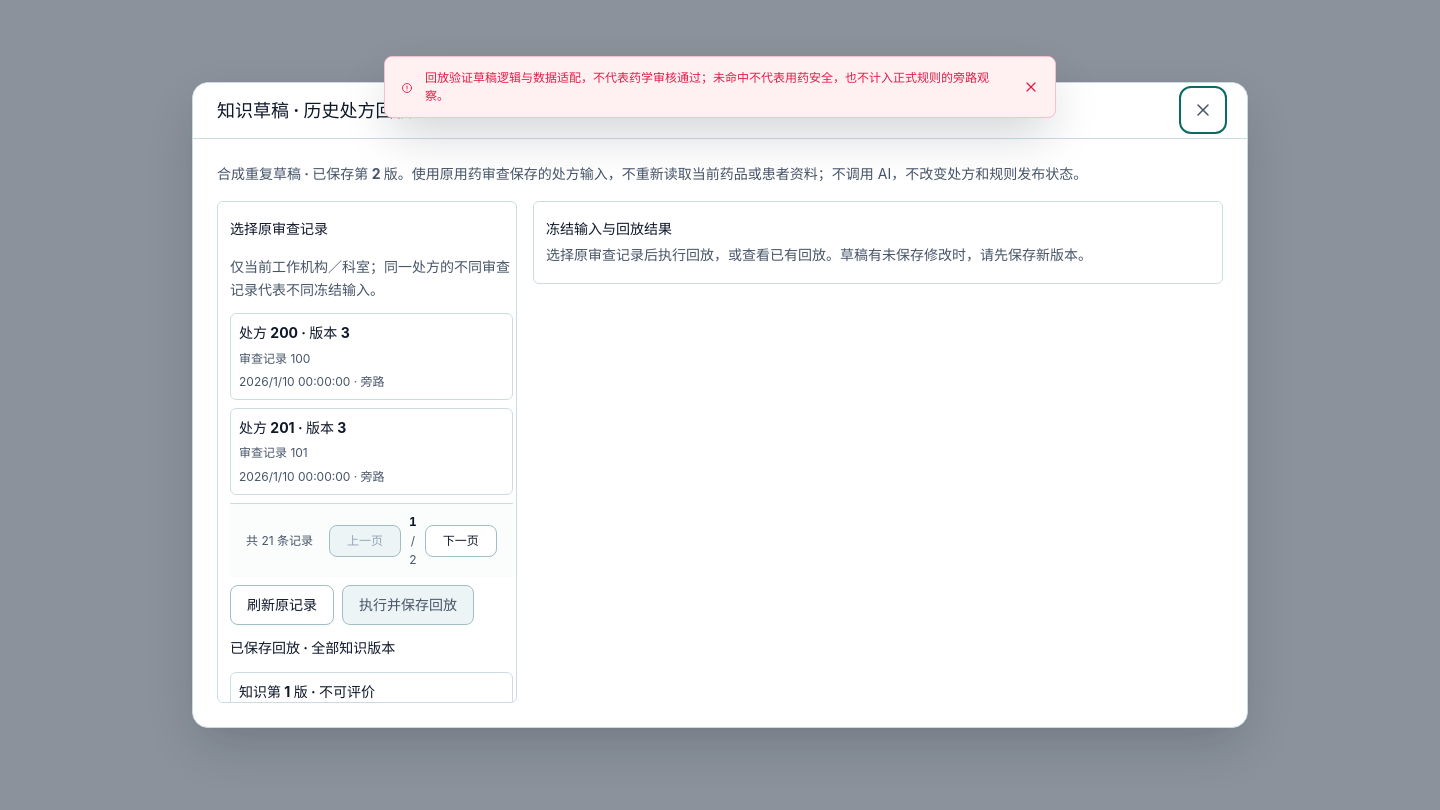
it: requires explicit selection and replay, pins the saved knowledge version and displays frozen facts
The width and height of the screenshot is (1440, 810).
Expected: the button "执行并保存回放" is disabled, [342, 585, 474, 625]
Click the button "处方 200 · 版本 3 审查记录 100 2026/1/10 00:00:00 · 旁路": (255, 333) [230, 313, 513, 400]
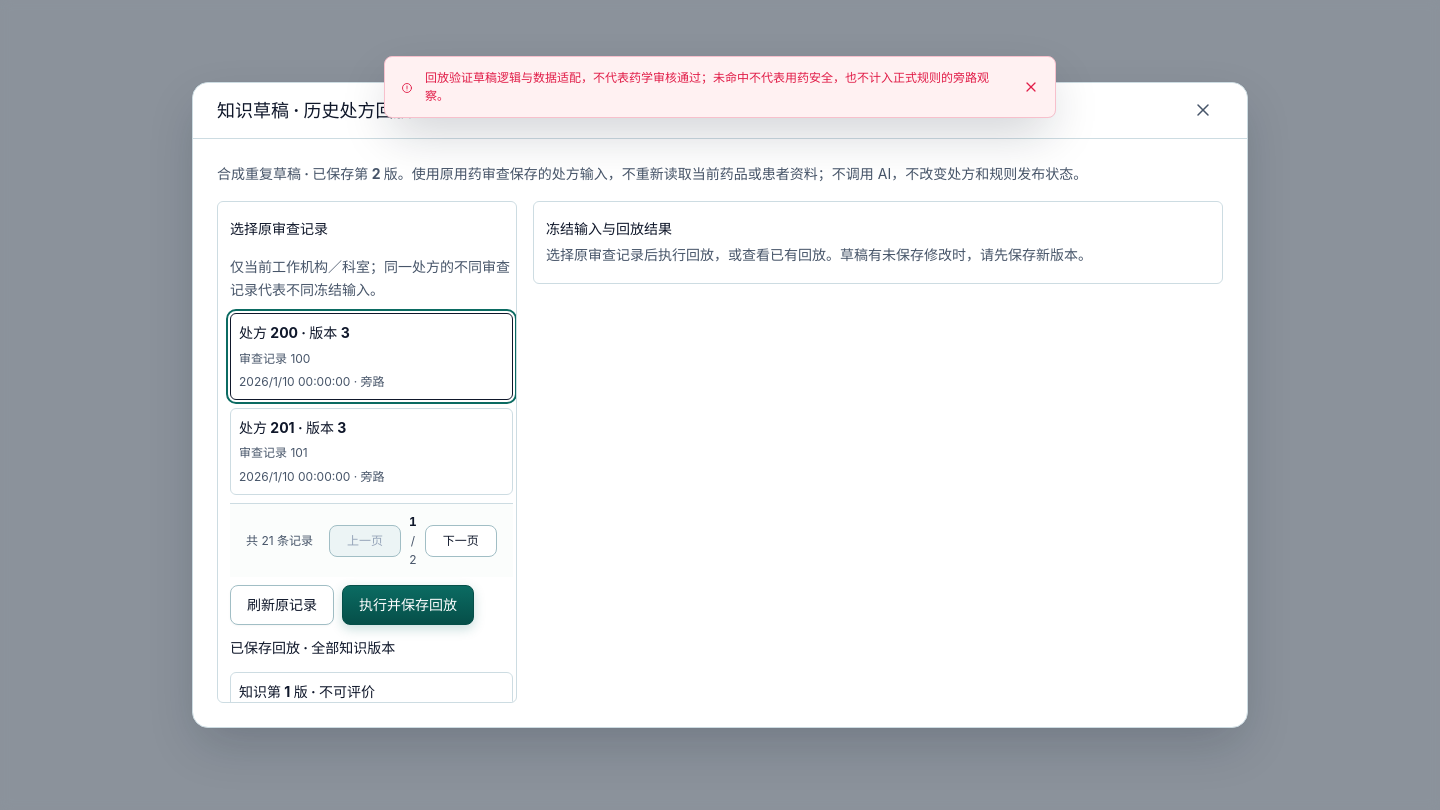
Click the button "执行并保存回放": (408, 605) [342, 585, 474, 625]
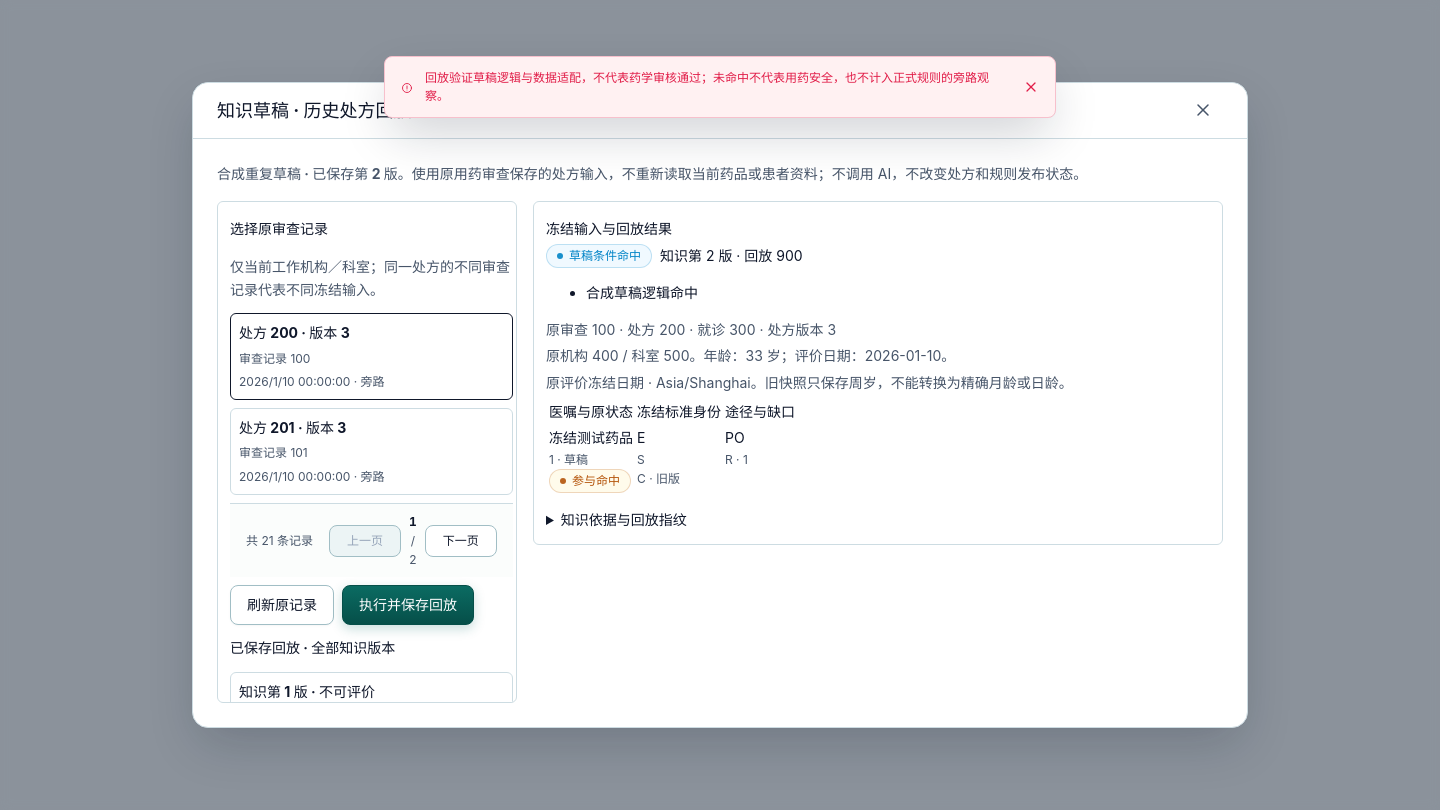
Expected: the text "冻结测试药品" is shown, [549, 429, 633, 446]
Expected: the text "参与命中" is shown, [549, 469, 631, 493]
Expected: the text "原机构 400 / 科室 500。年龄：33 岁；评价日期：2026-01-10。" is shown, [546, 347, 955, 364]
Click the heading "知识依据与回放指纹": (624, 520) [561, 511, 687, 528]
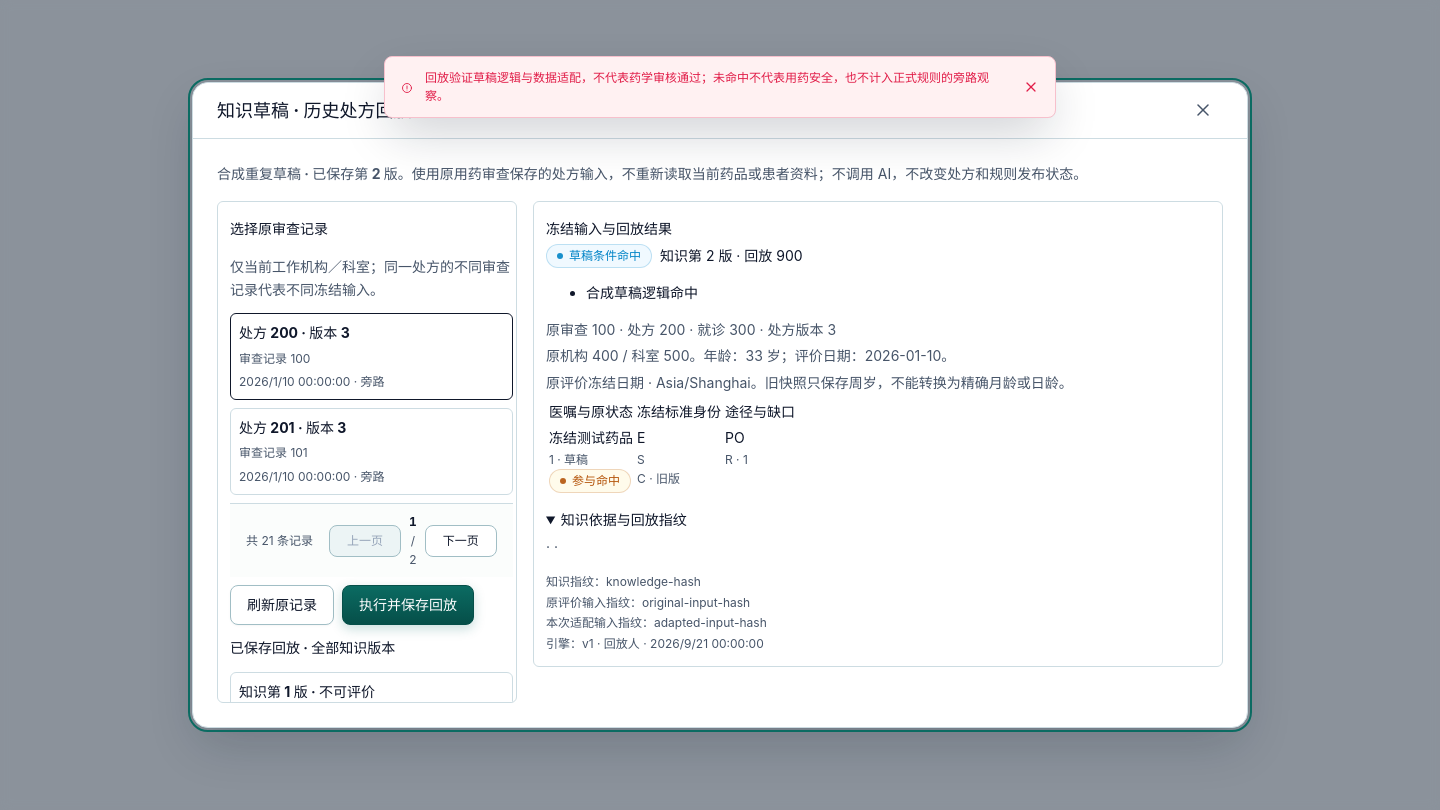
Expected: the text "原评价输入指纹：original-input-hash" is shown, [546, 595, 750, 610]
